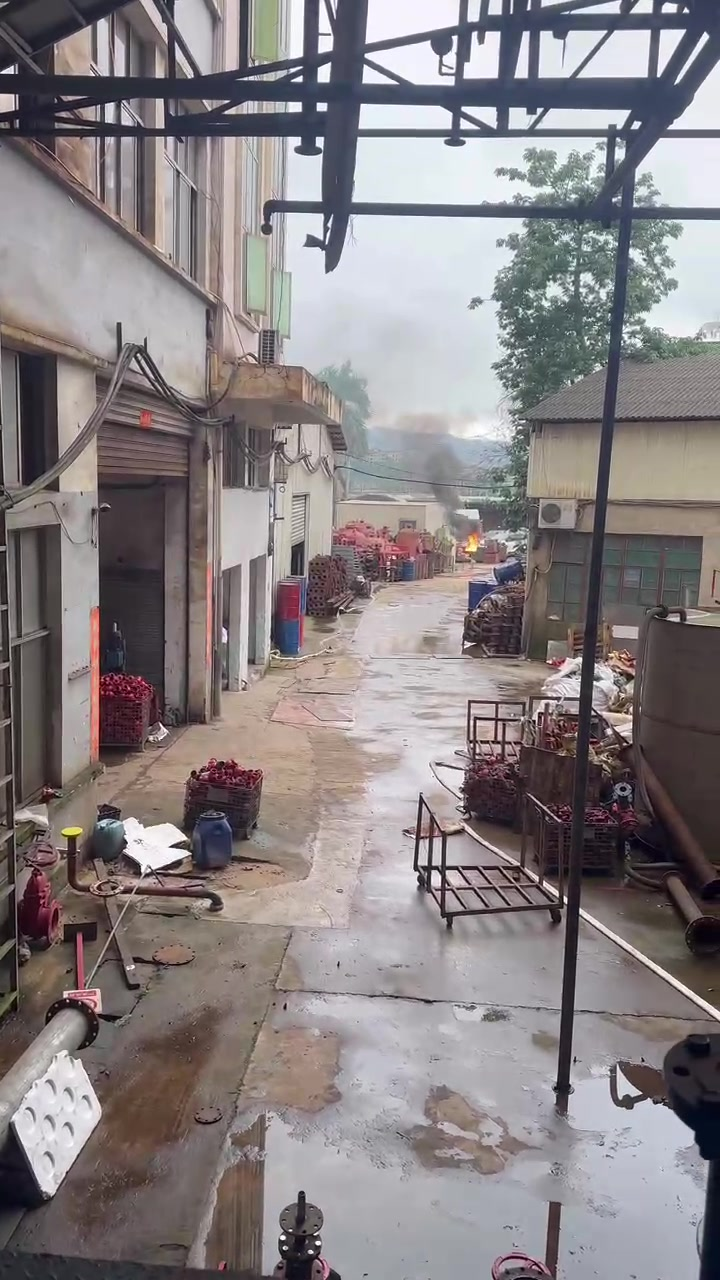fire: (465, 532, 477, 550)
